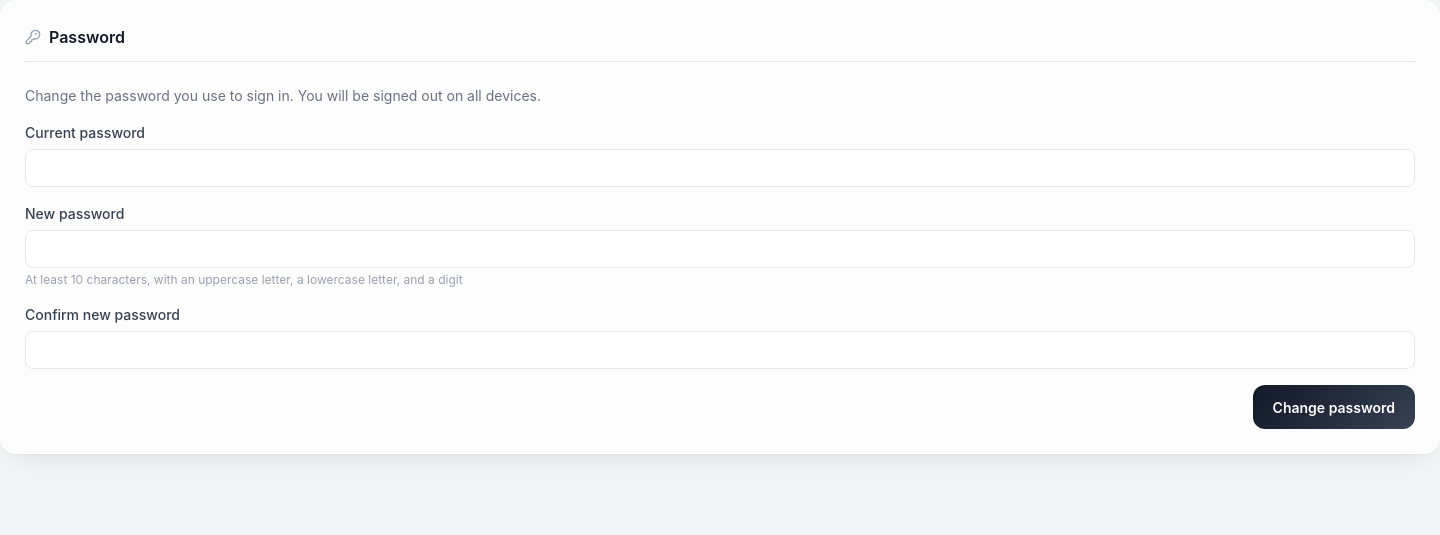
ChangePasswordCard › surfaces the server error
The image size is (1440, 535).
Type "wrong" into the password field labelled "Current password" at (720, 168), box [25,149,1415,187]
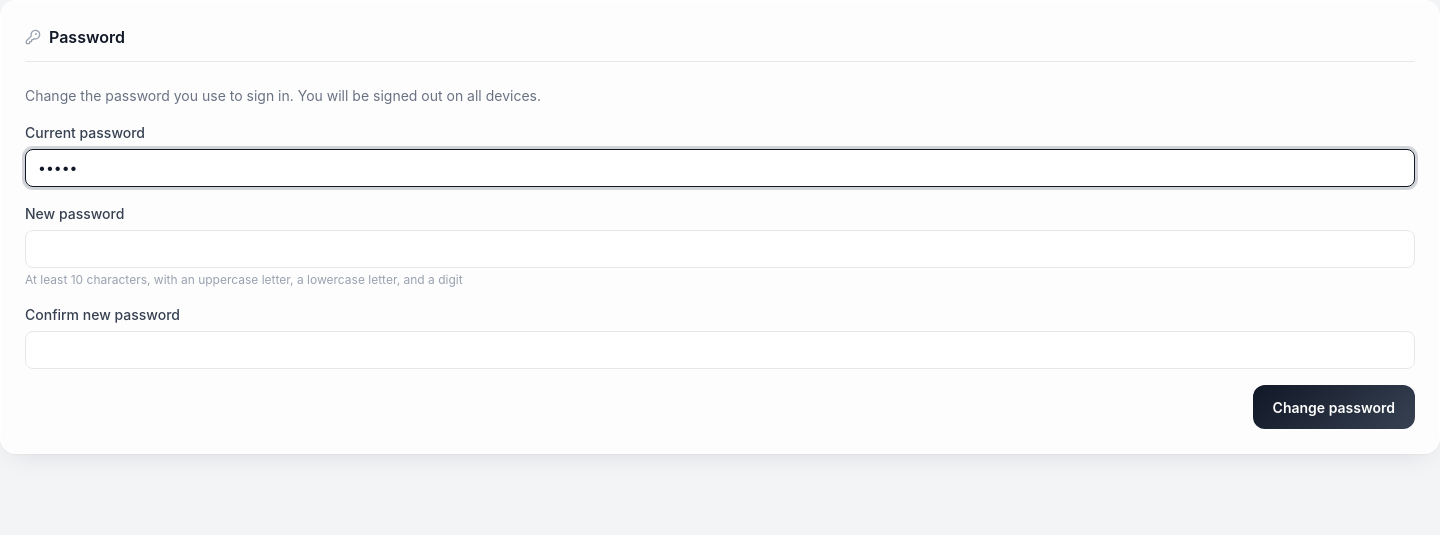
Type "Newpass12345" into the password field labelled "New password" at (720, 249), box [25,230,1415,268]
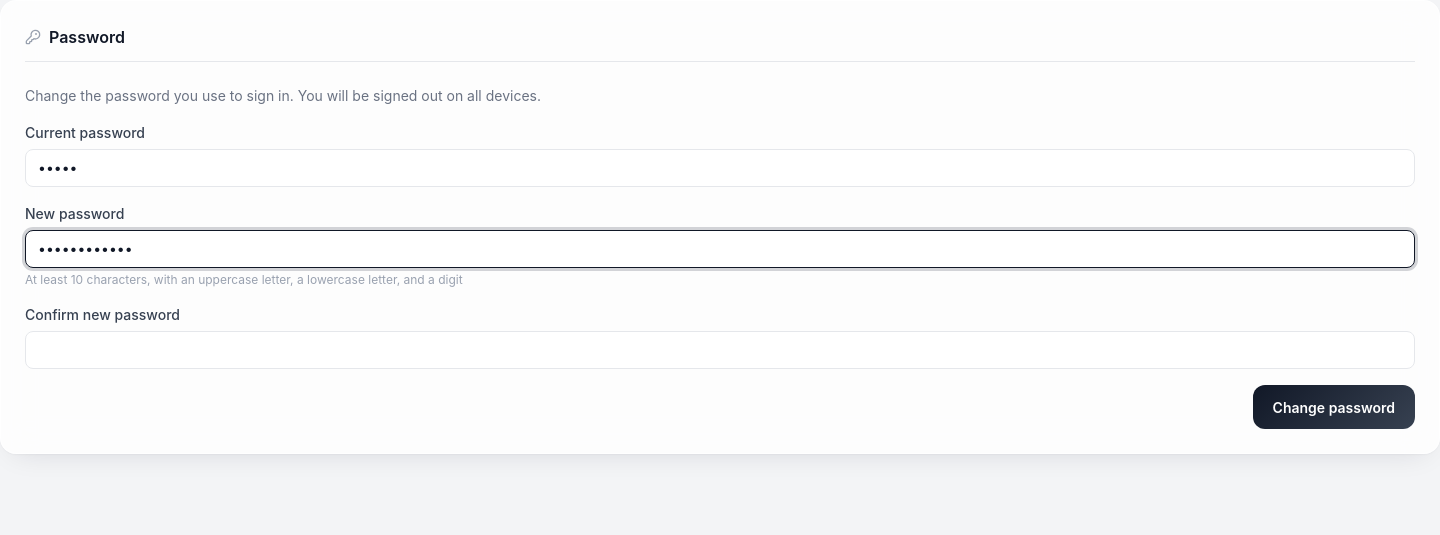
Type "Newpass12345" into the password field labelled "Confirm new password" at (720, 350), box [25,331,1415,369]
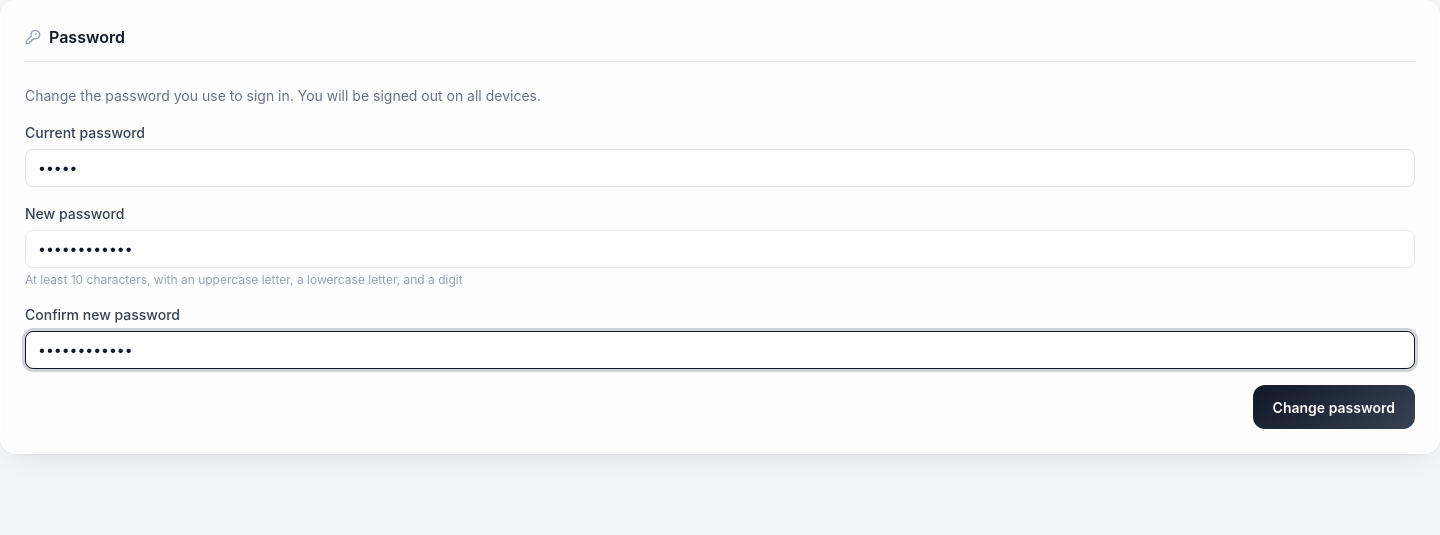
Click the button "Change password" at (1334, 407), box [1253,385,1415,429]
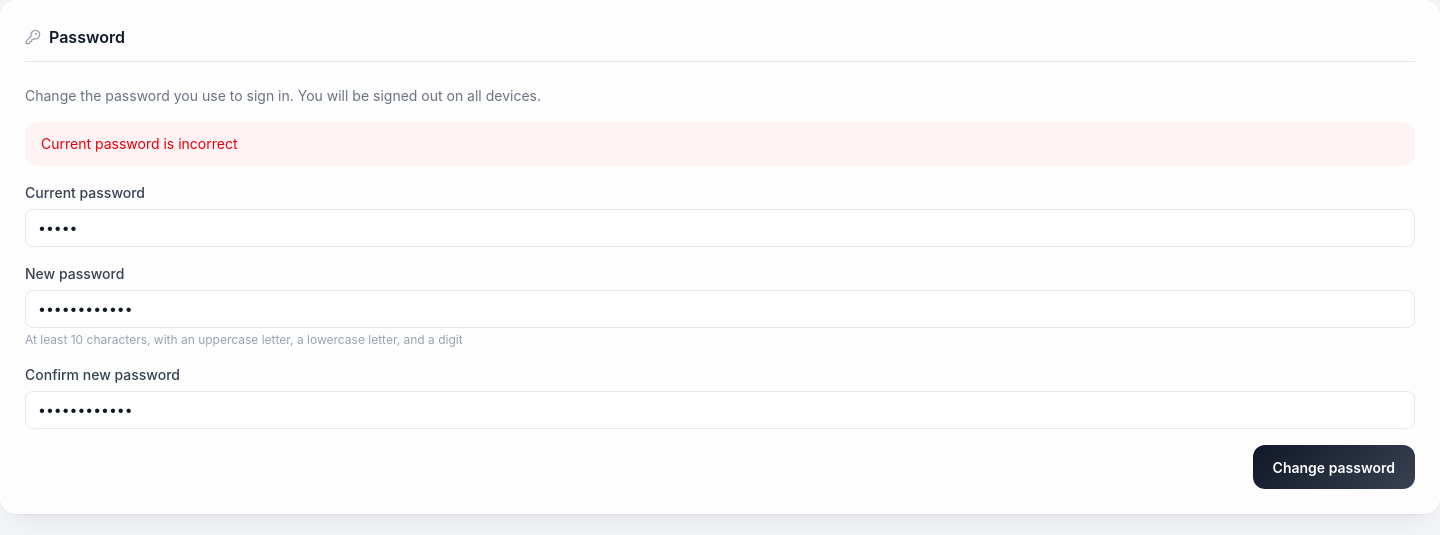
expect the text "Current password is incorrect" is shown: met, box [25,122,1415,166]
